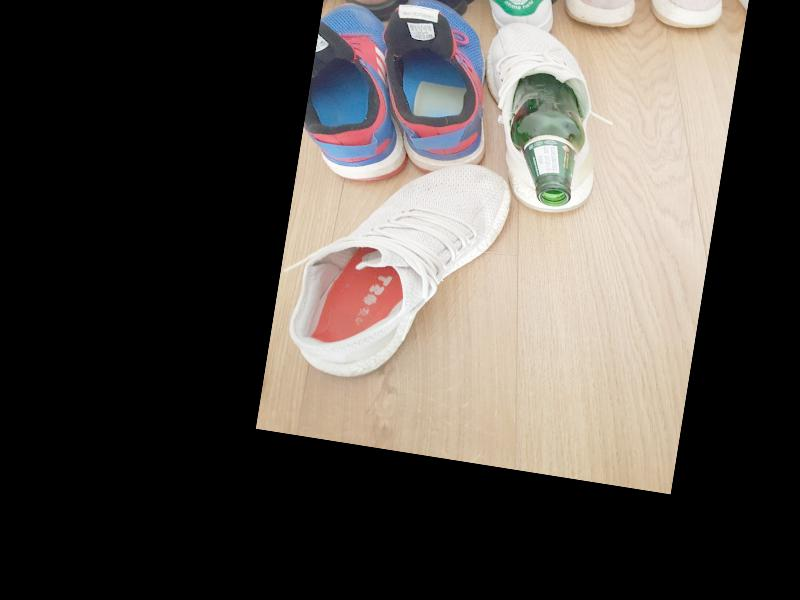Beer: (496, 70, 593, 210)
